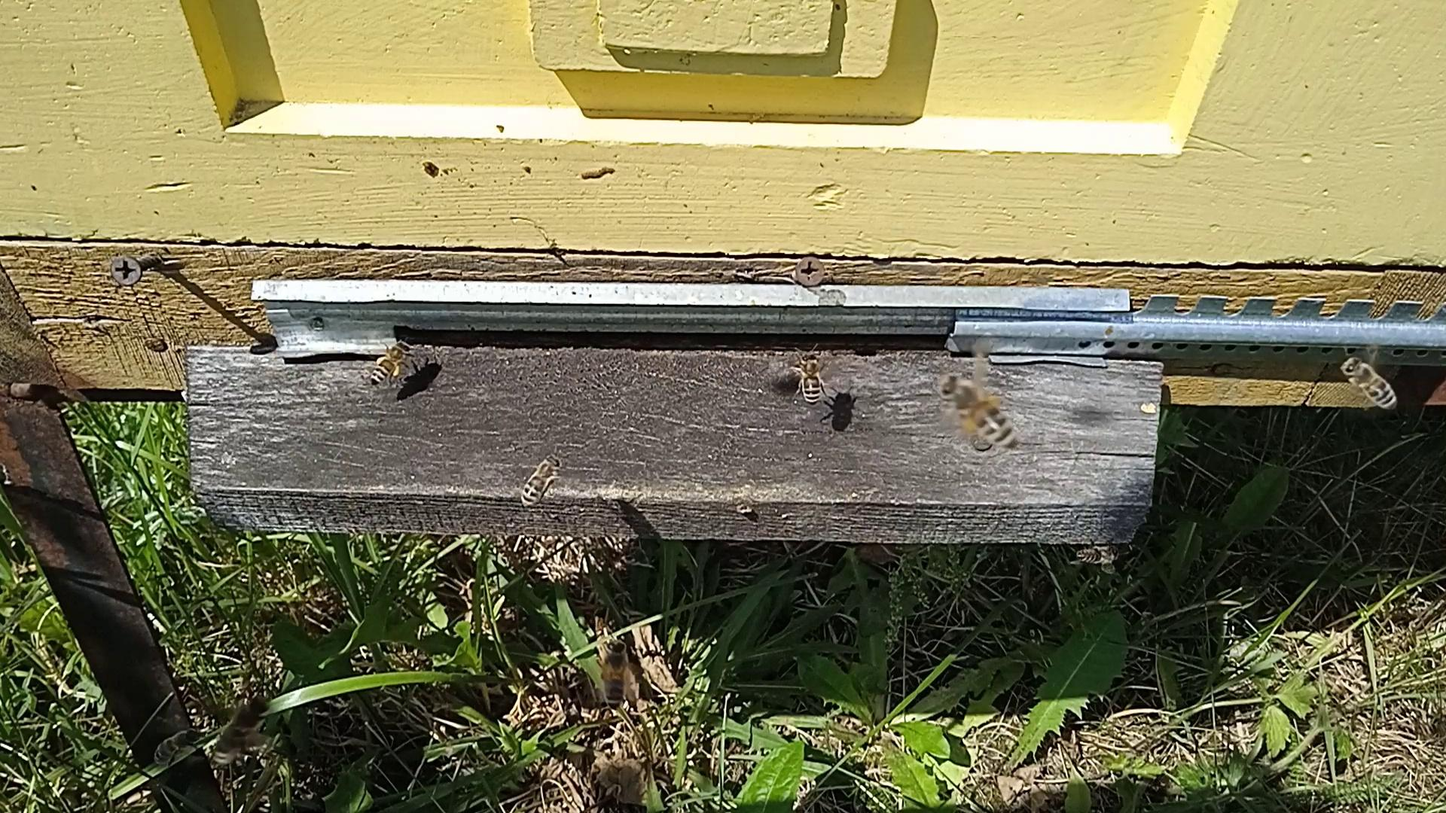worker-bee: (942, 373, 1018, 452), (210, 696, 271, 768), (1339, 355, 1398, 411), (520, 454, 562, 507), (371, 338, 416, 387), (151, 726, 203, 767), (602, 641, 628, 710), (794, 352, 825, 407), (1074, 545, 1119, 564)
